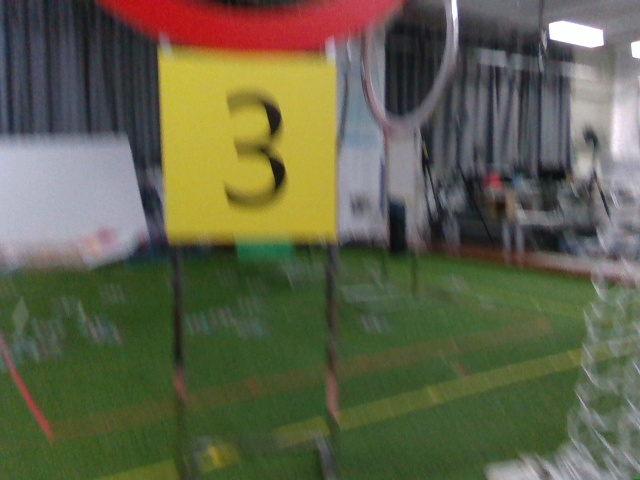target: (157, 55, 333, 241)
